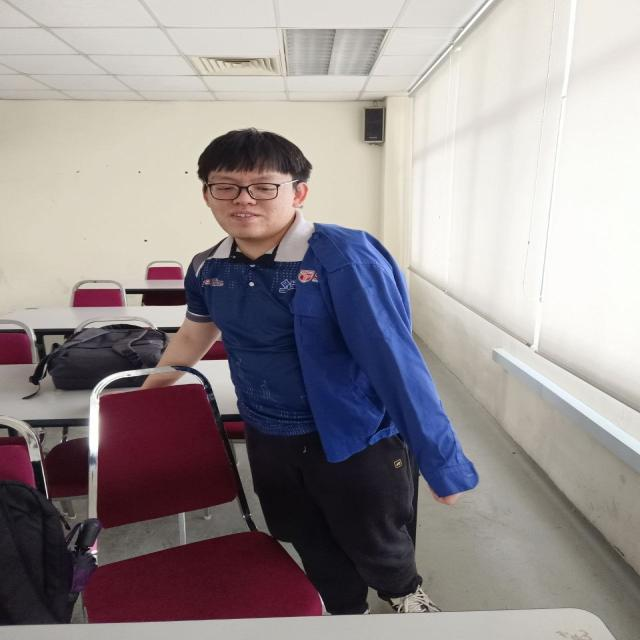person_without_labcoat: (159, 128, 478, 615)
